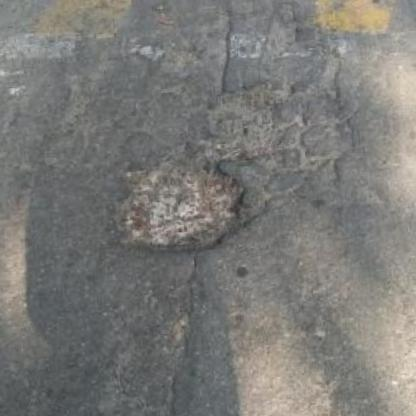pothole: (102, 146, 255, 261), (196, 78, 294, 165)
